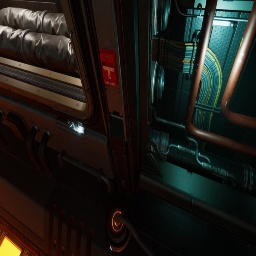FireAlarm ,: (100, 48, 119, 87)
